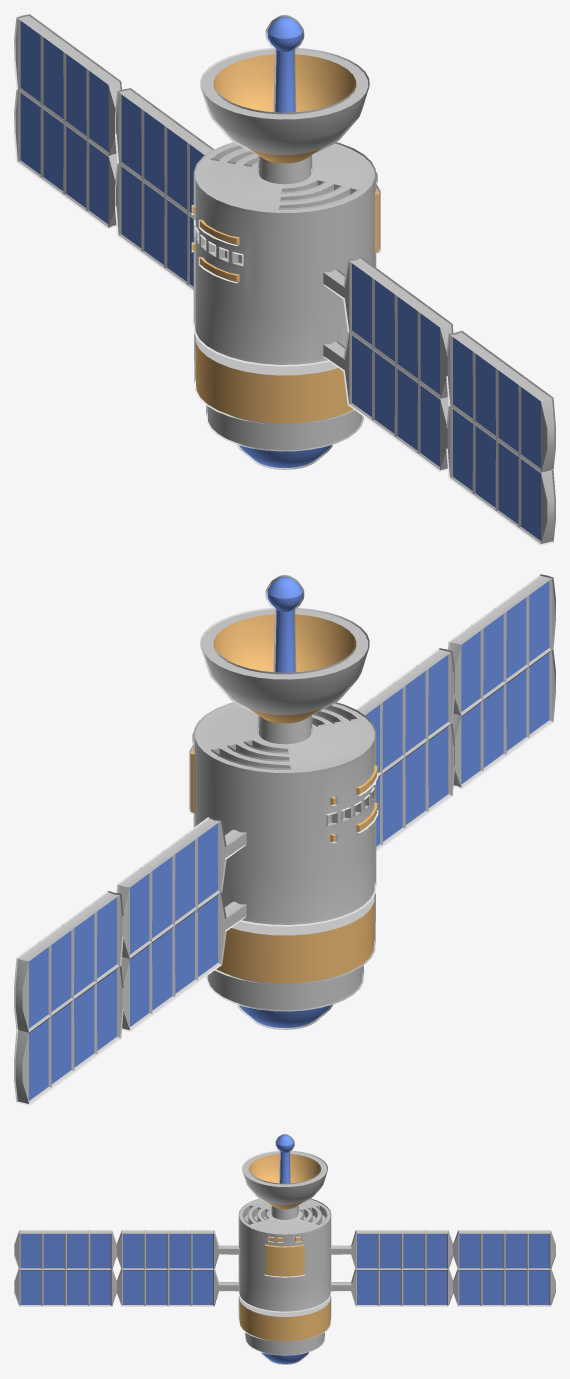
The model's file is satellite.glb.
3 views of the same model, one above another, from view 1: azimuth 30°, elevation 25°; view 2: azimuth 150°, elevation 25°; view 3: azimuth 270°, elevation 25° (orthographic). The views are drawn at different scales.
Visible parts, largest first — view 1: Satellite.001; view 2: Satellite.001; view 3: Satellite.001.
Part boxes in pixels (x1,y1,x2,y2): Satellite.001: (14, 14, 555, 545); Satellite.001: (14, 574, 555, 1105); Satellite.001: (14, 1134, 555, 1364).
Size of the model in its own units: 2.09 by 5.42 by 11.67.
